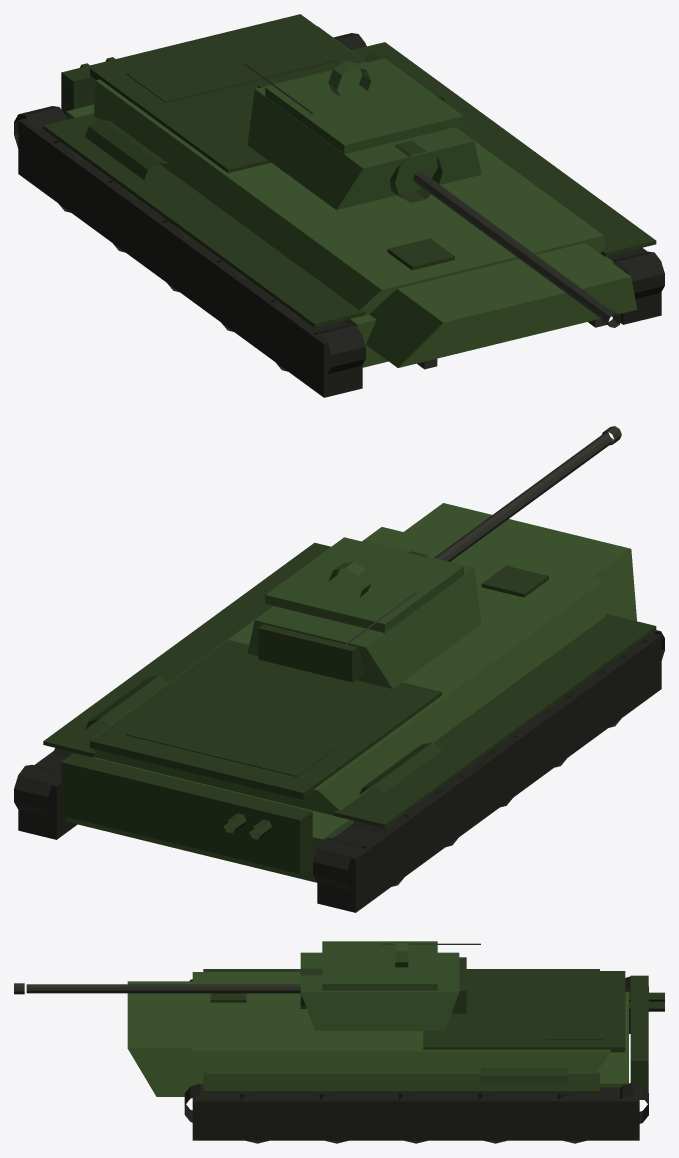
3 views of the same model, one above another, from view 1: azimuth 30°, elevation 25°; view 2: azimuth 150°, elevation 25°; view 3: azimuth 270°, elevation 25° (orthographic). The views are drawn at different scales.
Parts seen in each view (by area): view 1: hull_upper, track_left, glacis, fender_left, turret_base, engine_deck, turret_top, fender_right, grille, barrel, rear, fuel_left (+8 smaller); view 2: hull_upper, engine_deck, track_left, rear, fender_left, turret_top, turret_base, glacis, fender_right, grille, turret_rear, barrel (+7 smaller); view 3: track_right, hull_upper, engine_deck, turret_base, fender_right, glacis, turret_top, grille, barrel, rear, fuel_right, hull_lower (+7 smaller).
Boxes of the visible parts, x1=… form: hull_upper: x1=94, y1=26, x2=605, y2=314; track_left: x1=18, y1=118, x2=362, y2=397; glacis: x1=366, y1=243, x2=637, y2=367; fender_left: x1=43, y1=113, x2=365, y2=327; turret_base: x1=247, y1=62, x2=481, y2=209; engine_deck: x1=90, y1=16, x2=365, y2=173; turret_top: x1=265, y1=58, x2=463, y2=153; fender_right: x1=351, y1=42, x2=656, y2=256; grille: x1=126, y1=31, x2=336, y2=102; barrel: x1=413, y1=171, x2=610, y2=318; rear: x1=61, y1=14, x2=303, y2=115; fuel_left: x1=85, y1=119, x2=172, y2=179; hull_upper: x1=94, y1=527, x2=605, y2=815; engine_deck: x1=90, y1=640, x2=441, y2=800; track_left: x1=317, y1=633, x2=661, y2=912; rear: x1=61, y1=753, x2=312, y2=873; fender_left: x1=333, y1=614, x2=656, y2=828; turret_top: x1=265, y1=537, x2=463, y2=632; turret_base: x1=247, y1=541, x2=481, y2=688; glacis: x1=404, y1=503, x2=636, y2=621; fender_right: x1=43, y1=542, x2=330, y2=757; grille: x1=126, y1=705, x2=336, y2=776; turret_rear: x1=258, y1=624, x2=364, y2=682; barrel: x1=434, y1=433, x2=611, y2=561; track_right: x1=192, y1=1087, x2=639, y2=1140; hull_upper: x1=192, y1=972, x2=610, y2=1073; engine_deck: x1=423, y1=971, x2=625, y2=1052; turret_base: x1=300, y1=952, x2=459, y2=1030; fender_right: x1=203, y1=1072, x2=599, y2=1093; glacis: x1=127, y1=981, x2=206, y2=1096; turret_top: x1=322, y1=941, x2=437, y2=990; grille: x1=546, y1=978, x2=603, y2=1039; barrel: x1=26, y1=984, x2=300, y2=993; rear: x1=630, y1=975, x2=648, y2=1099; fuel_right: x1=481, y1=1068, x2=567, y2=1083; hull_lower: x1=597, y1=992, x2=628, y2=1087.
Bounding box in the file's own units: 4 × 2.16 × 9.02.
